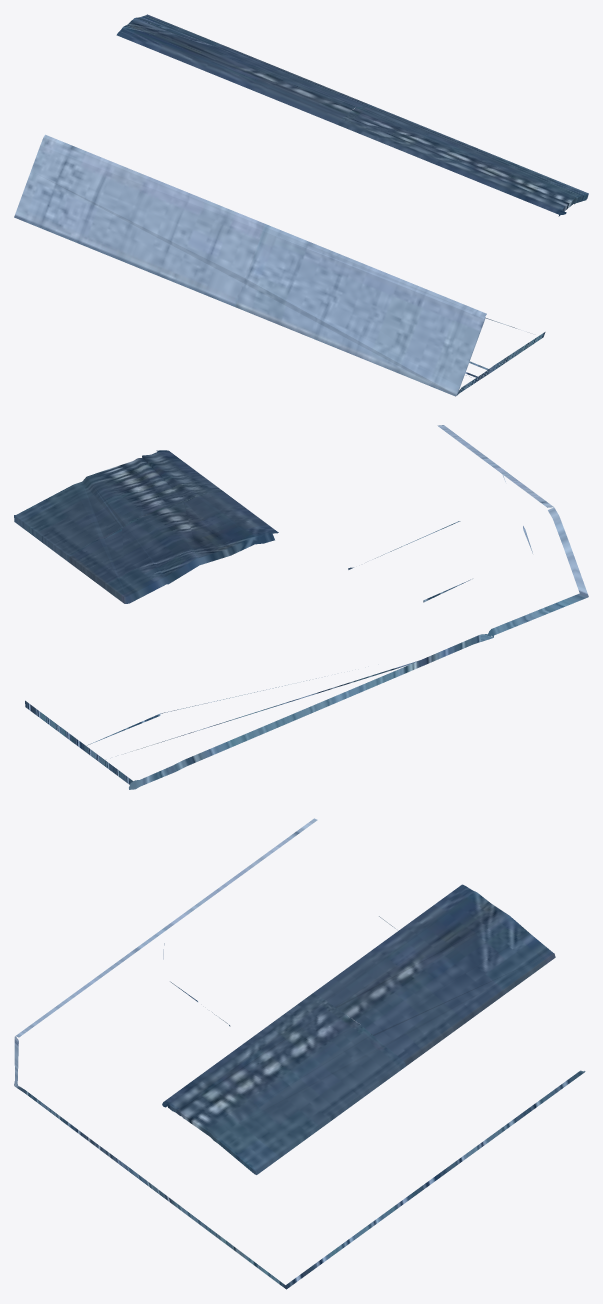
The model's file is congresso_tile_56.glb.
The picture shows the model from 3 angles, top to bottom: view 1: azimuth 30°, elevation 25°; view 2: azimuth 150°, elevation 25°; view 3: azimuth 270°, elevation 25°; orthographic projection. The views are drawn at different scales.
Bounding box in the file's own units: 47.29 × 25.66 × 50.06.
Materials: 1 (1 with a texture image).
